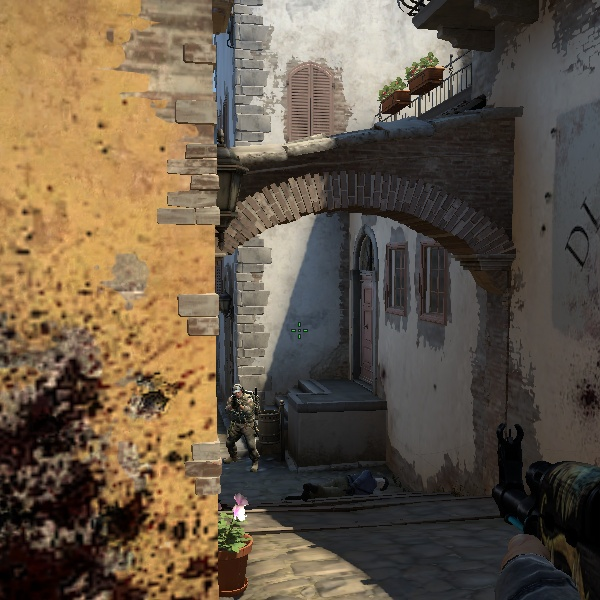ct_body: (217, 384, 262, 464)
